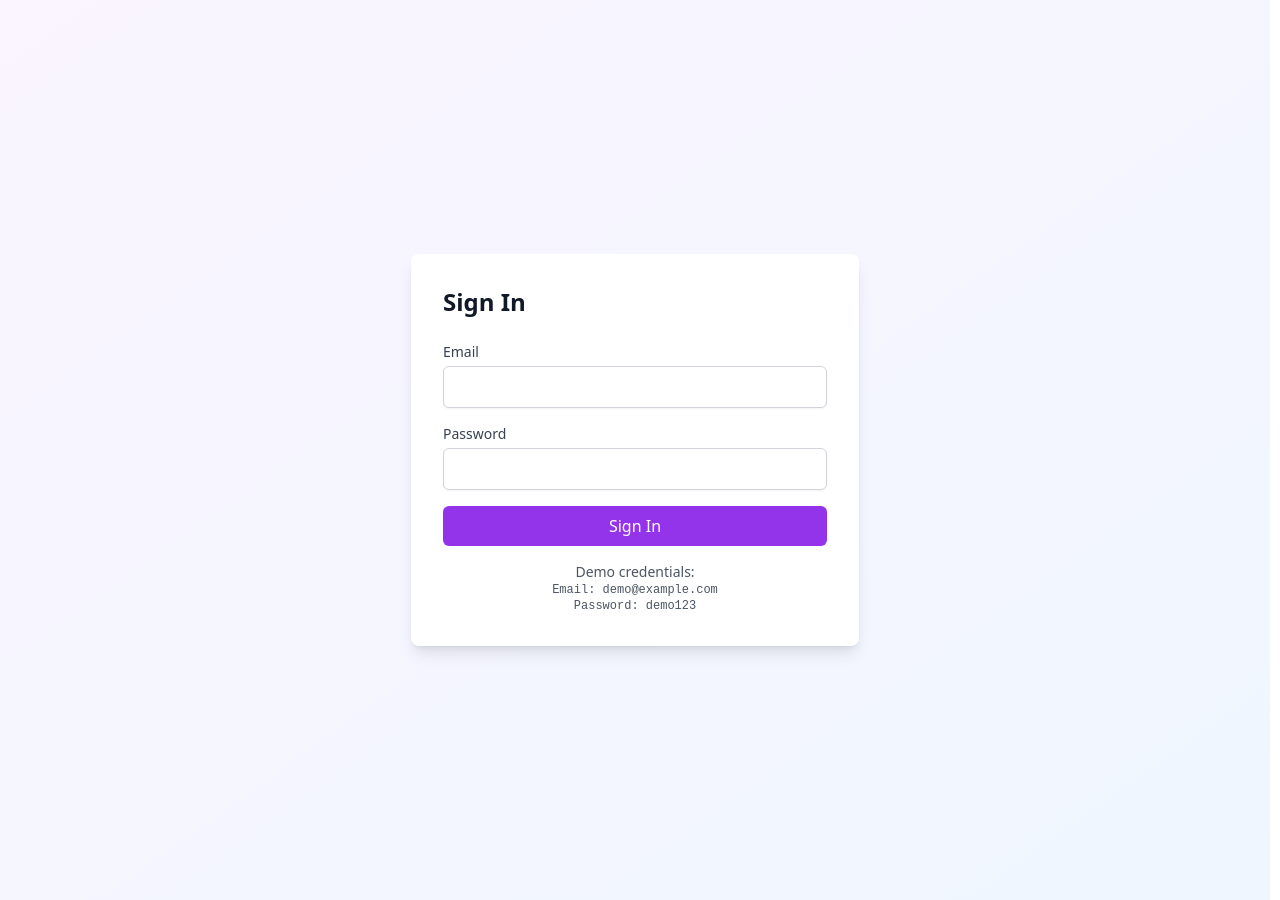
Test: LoginForm E2E Integration Tests › Security Configuration Integration › should handle multiple failed attempts without lockout when configured
Step 1. Type "disabled@example.com" into the field labelled "Email" → (635, 387), box [443, 366, 827, 408]
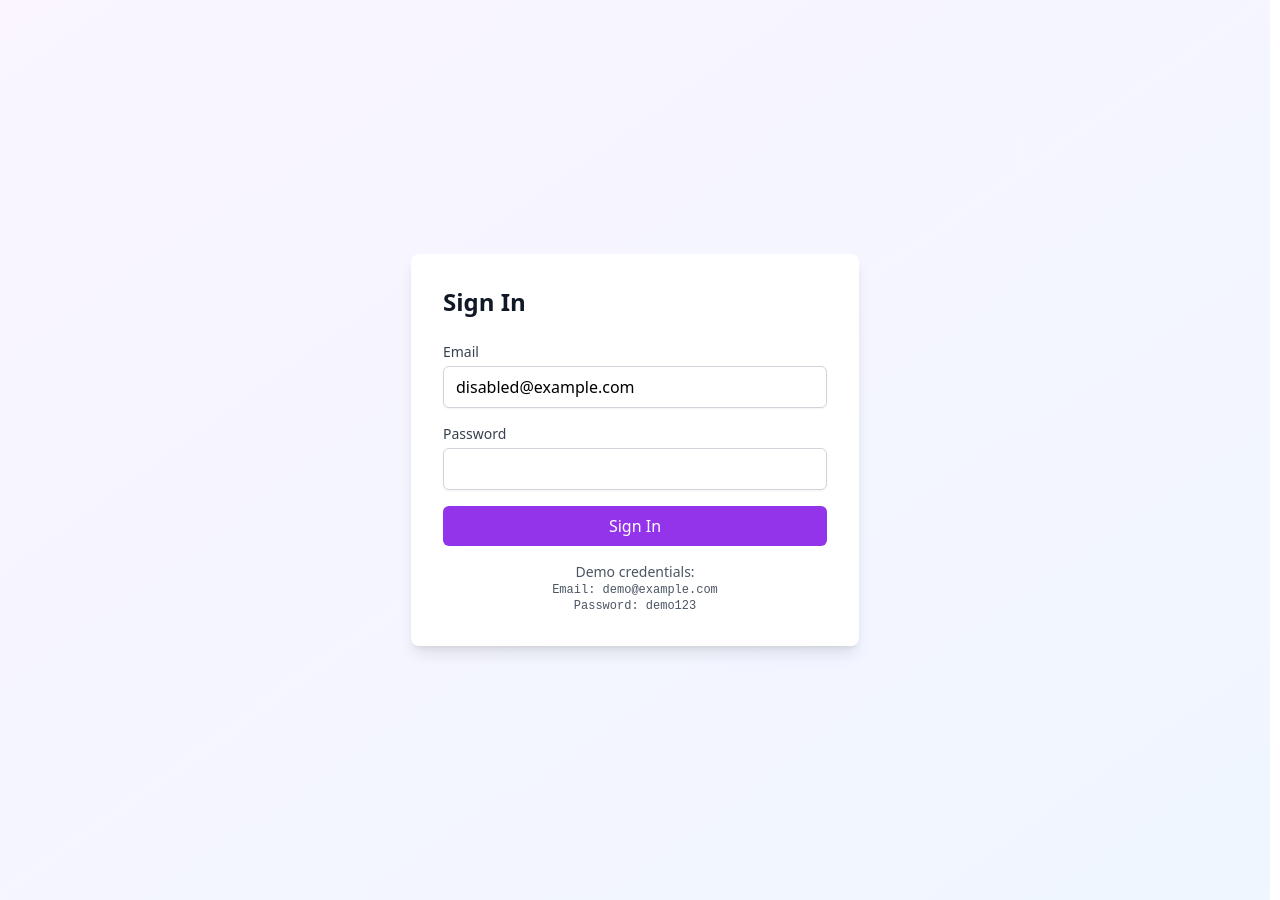
Step 2. Type "attempt1" into the password field labelled "Password" → (635, 469), box [443, 448, 827, 490]
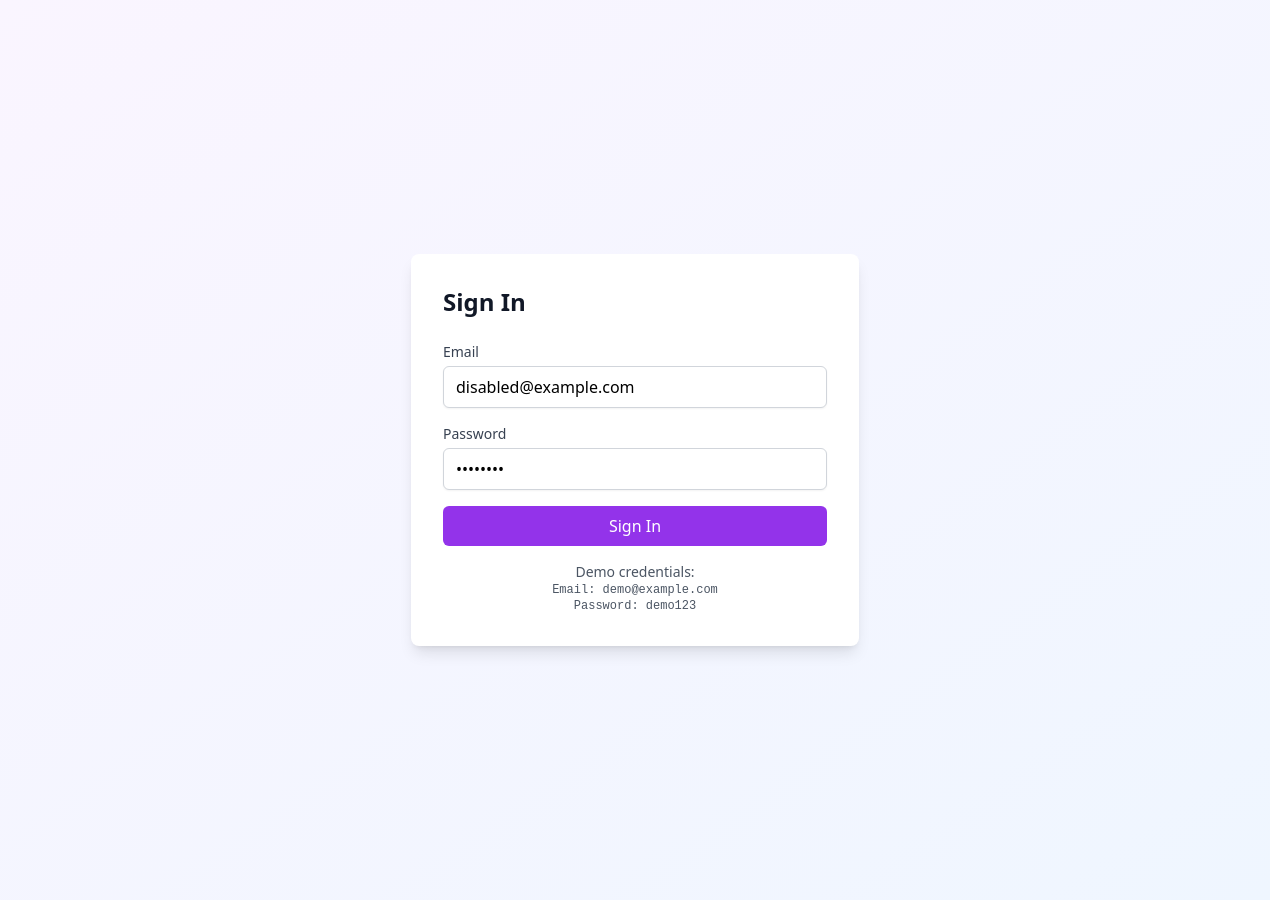
Step 3. Click the button "Sign In" → (635, 526), box [443, 506, 827, 546]
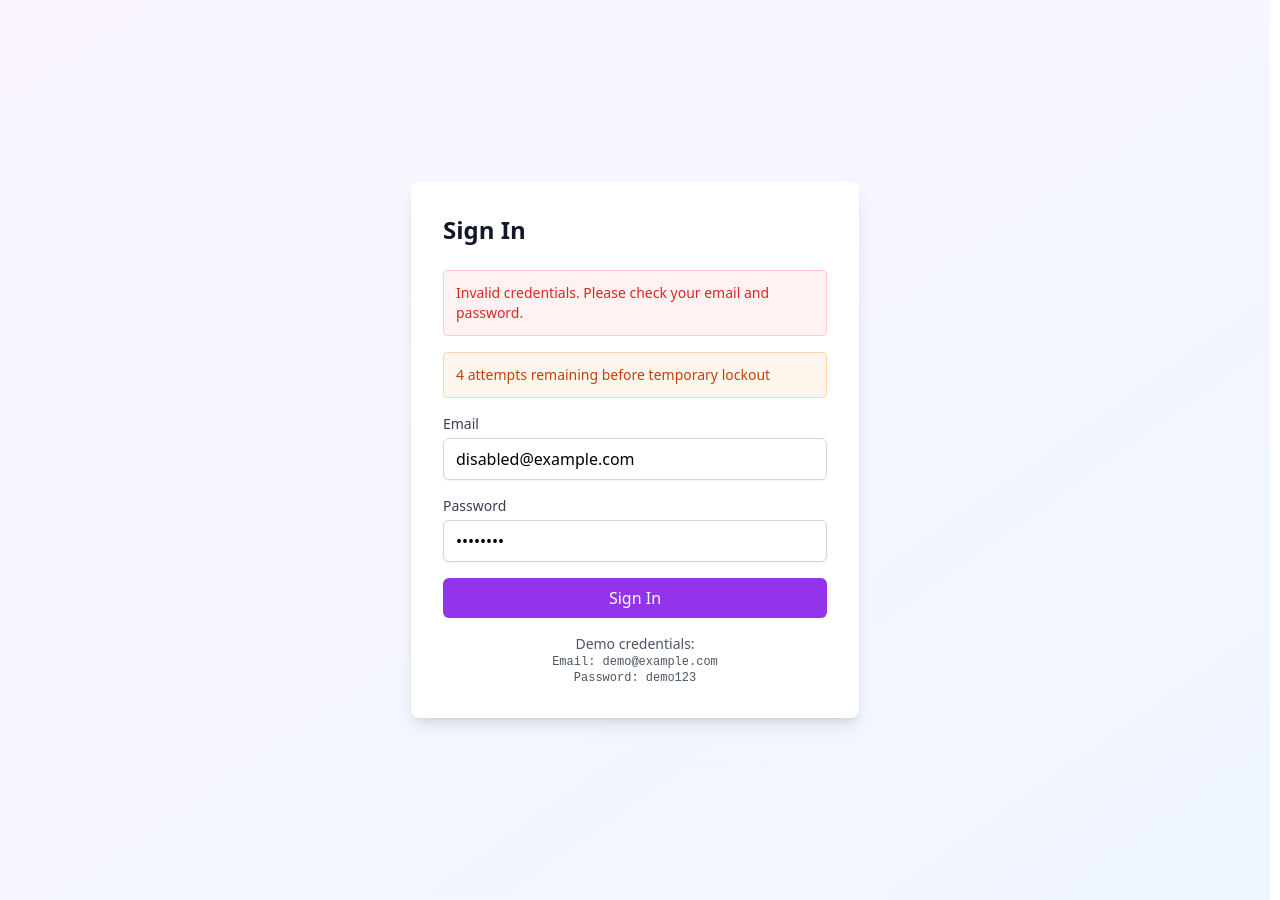
Expected: the button "Sign In" is enabled, [443, 578, 827, 618]
Now the text "Invalid credentials. Please check your email and password." is shown, box [443, 270, 827, 336]
